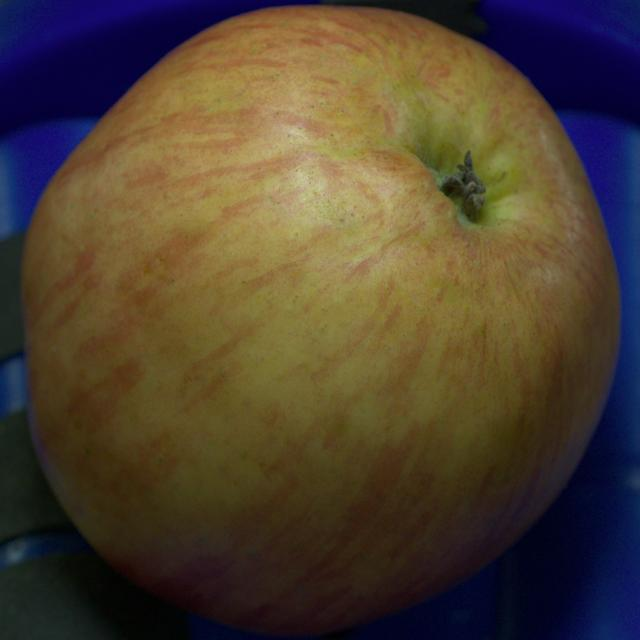apple: (21, 6, 620, 634)
